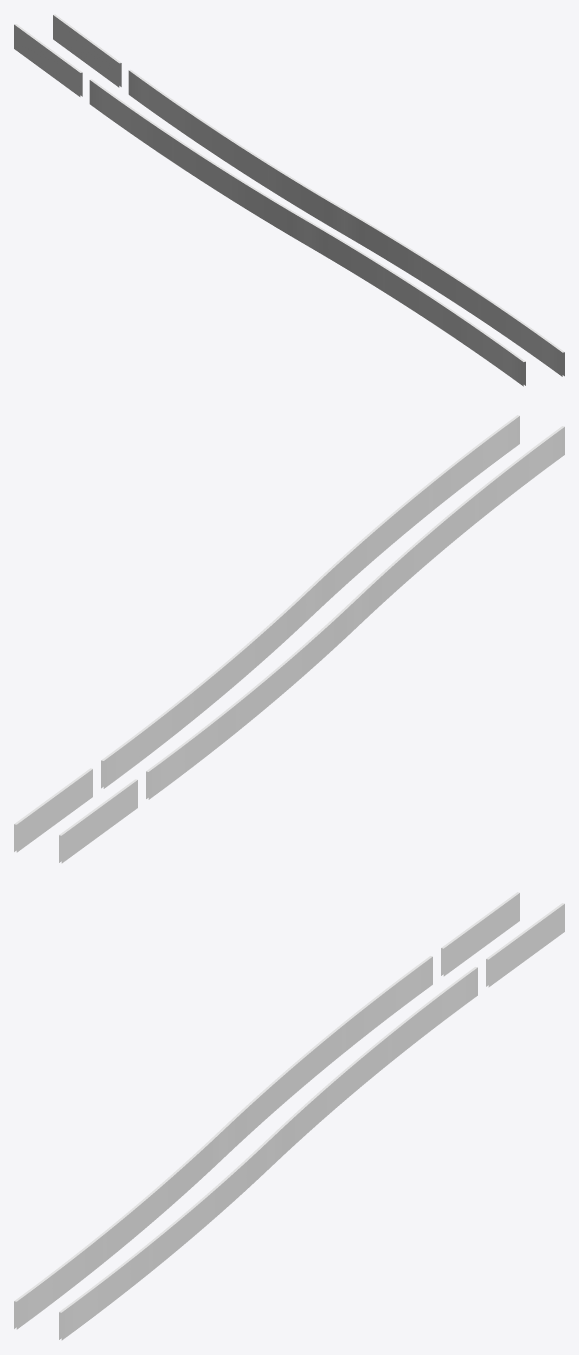
File: Track colliders.fbx
The picture shows the model from 3 angles, top to bottom: view 1: azimuth 30°, elevation 25°; view 2: azimuth 150°, elevation 25°; view 3: azimuth 330°, elevation 25°; orthographic projection. The views are drawn at different scales.
Parts seen in each view (by area): view 1: polySurface6, polySurface4, polySurface5, polySurface3, polySurface1, polySurface2; view 2: polySurface4, polySurface6, polySurface3, polySurface5, polySurface1, polySurface2; view 3: polySurface6, polySurface4, polySurface5, polySurface3, polySurface1, polySurface2.
Part boxes in pixels (x1,y1,x2,y2): polySurface6: (344,210,564,376); polySurface4: (89,79,309,245); polySurface5: (308,221,525,386); polySurface3: (128,69,345,234); polySurface1: (53,14,121,87); polySurface2: (14,24,82,96); polySurface4: (146,598,357,799); polySurface6: (308,415,519,616); polySurface3: (101,589,310,788); polySurface5: (355,426,564,625); polySurface1: (14,768,92,852); polySurface2: (59,779,137,863); polySurface6: (59,1138,270,1340); polySurface4: (221,956,432,1157); polySurface5: (14,1129,223,1329); polySurface3: (268,967,477,1166); polySurface1: (486,903,564,987); polySurface2: (441,892,519,976).
Size of the model in its own units: 2562 by 773 by 27149.
Materials: 1 (1 with a texture image).
